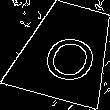O_N: (33, 21, 99, 83)
